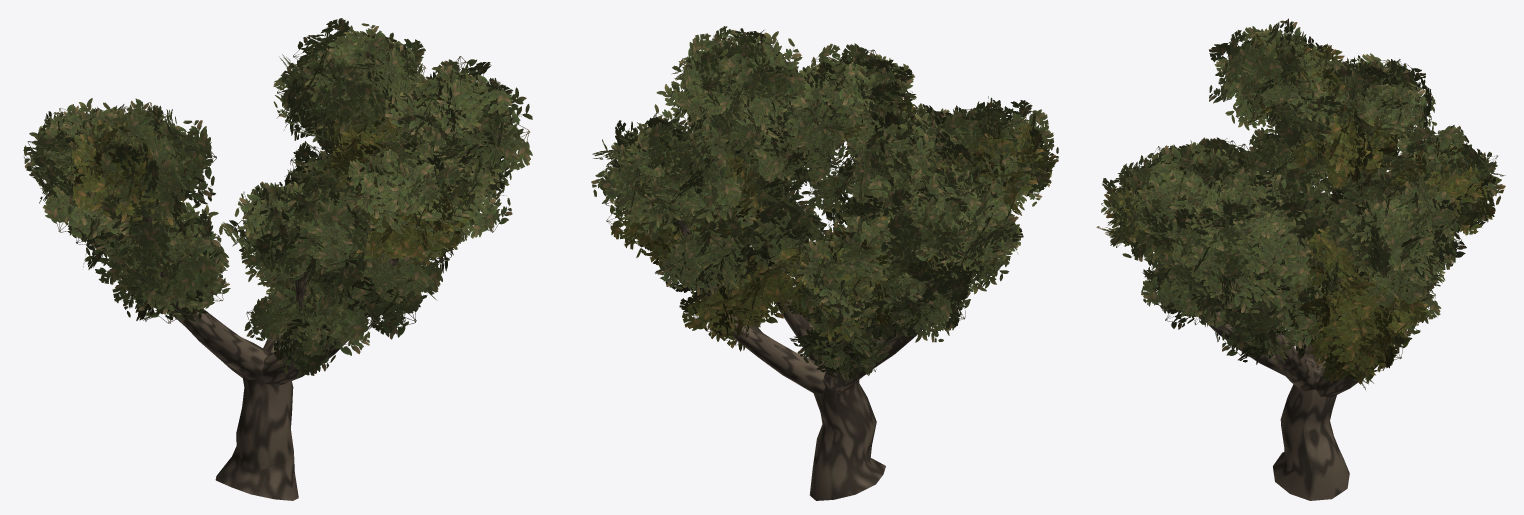
Rendered from b05_orchard_tree.glb.
3 renders of one model, left to right at view 1: azimuth 30°, elevation 25°; view 2: azimuth 150°, elevation 25°; view 3: azimuth 270°, elevation 25°, orthographic. The views are drawn at different scales.
Parts seen in each view (by area): view 1: b05_orchard_tree; view 2: b05_orchard_tree; view 3: b05_orchard_tree.
Part boxes in pixels (bbox=[...]): b05_orchard_tree: bbox=[23, 18, 532, 500]; b05_orchard_tree: bbox=[591, 26, 1058, 500]; b05_orchard_tree: bbox=[1096, 18, 1505, 500].
Size of the model in its own units: 1 by 0.9604 by 0.8805.
Materials: 2 (2 with a texture image).
